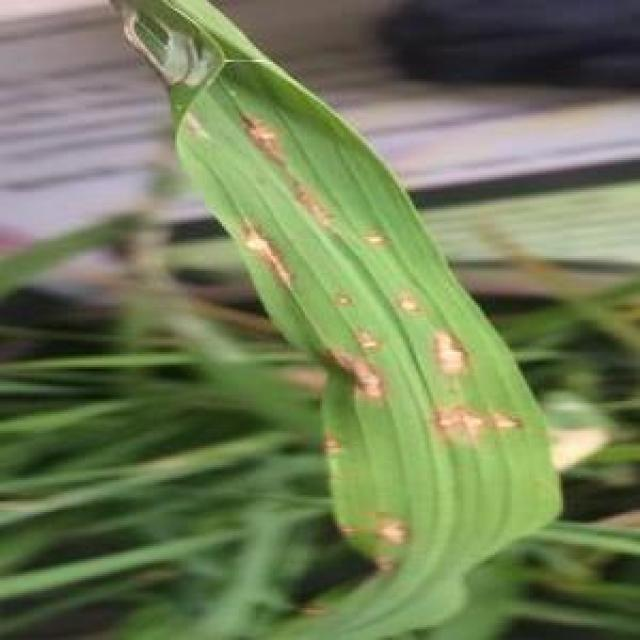Rice_Blast: (233, 105, 335, 234), (232, 219, 309, 306), (306, 339, 391, 400), (435, 402, 521, 439), (430, 328, 472, 381), (376, 511, 416, 548), (394, 284, 416, 321), (349, 334, 384, 352), (363, 234, 390, 252), (323, 433, 339, 459), (328, 292, 348, 307)
